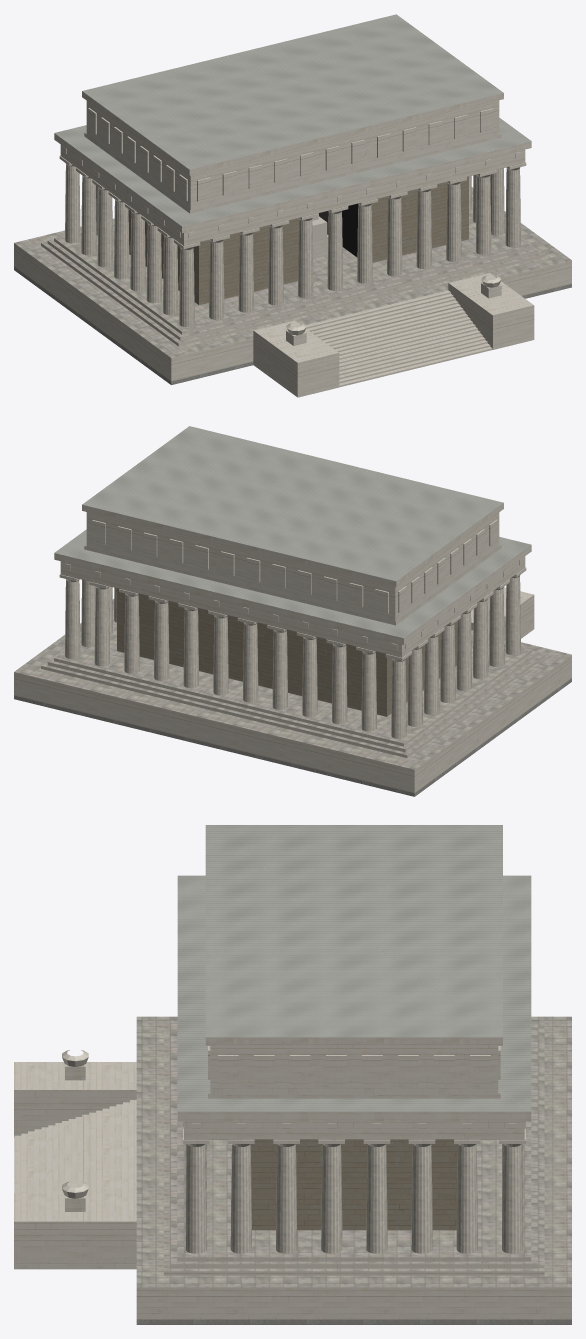
File: lincoln_memorial.glb
3 renders of one model, top to bottom at view 1: azimuth 30°, elevation 25°; view 2: azimuth 150°, elevation 25°; view 3: azimuth 270°, elevation 25°, orthographic. The views are drawn at different scales.
Parts seen in each view (by area): view 1: lincoln_memorial; view 2: lincoln_memorial; view 3: lincoln_memorial.
Boxes of the visible parts, x1,y1,x2,y2 form: lincoln_memorial: [14, 14, 571, 397]; lincoln_memorial: [14, 426, 571, 796]; lincoln_memorial: [14, 825, 571, 1324].
Size of the model in its own units: 67.8 by 30.2 by 59.1.
Materials: 7 (7 with a texture image).
